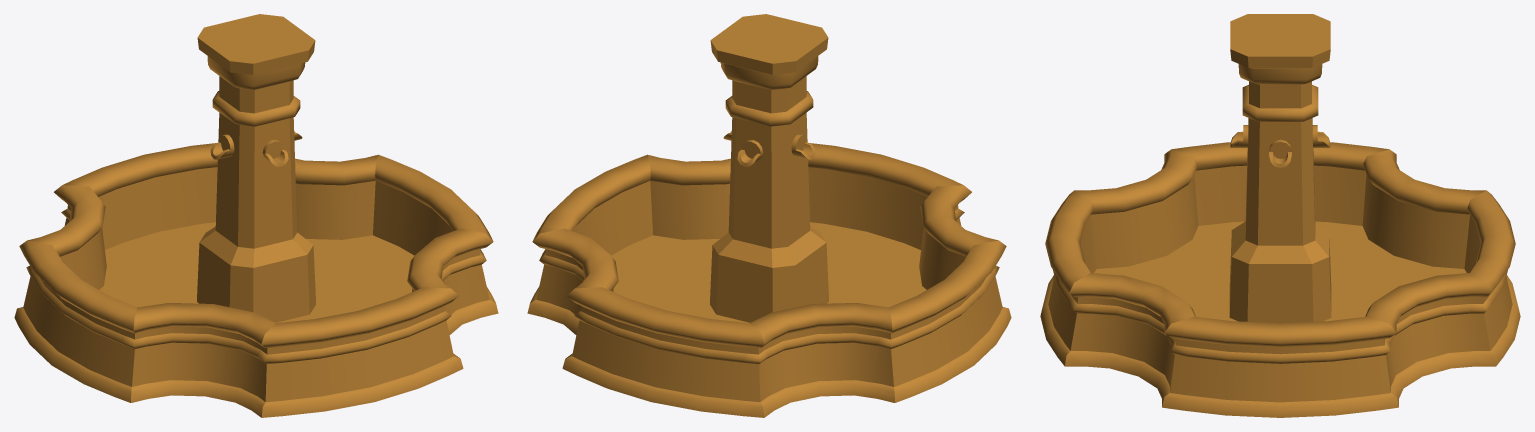
File: Fountain.fbx
The picture shows the model from 3 angles, left to right: view 1: azimuth 30°, elevation 25°; view 2: azimuth 150°, elevation 25°; view 3: azimuth 270°, elevation 25°; orthographic projection.
Visible parts, largest first — view 1: mesh_Fountain; view 2: mesh_Fountain; view 3: mesh_Fountain.
Part boxes in pixels (<box>): mesh_Fountain: <box>14,14,498,417</box>; mesh_Fountain: <box>527,14,1011,417</box>; mesh_Fountain: <box>1040,14,1520,417</box>.
Size of the model in its own units: 680 by 440 by 680.
